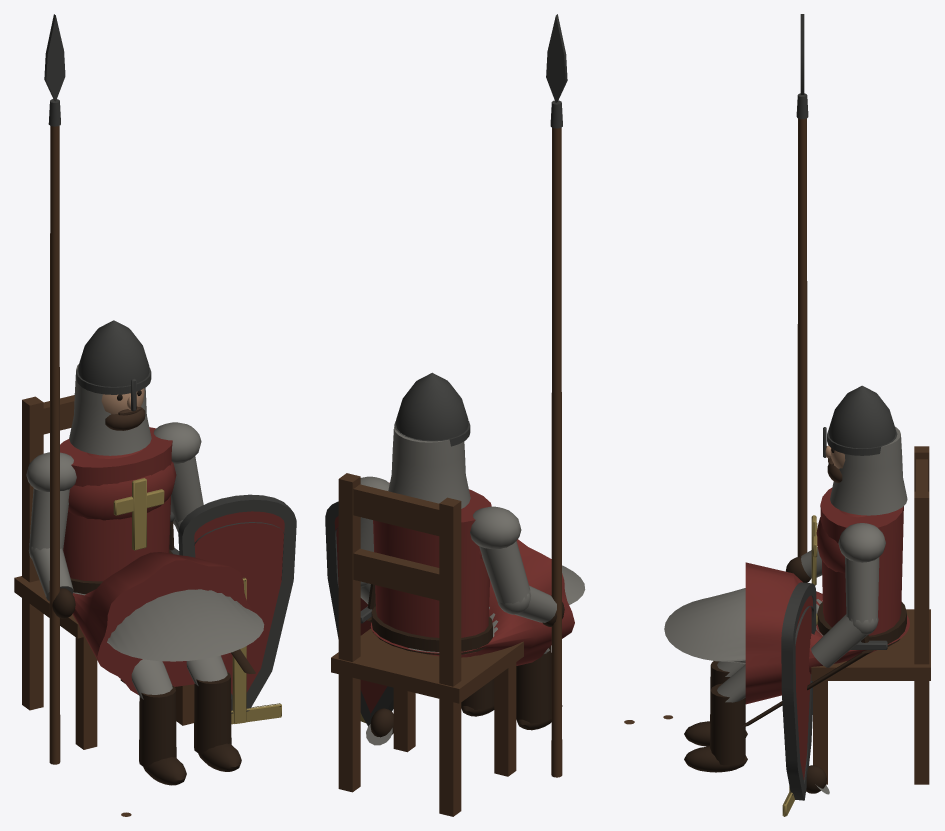
File: guardia-sentado.glb
3 renders of one model, left to right at view 1: azimuth 30°, elevation 25°; view 2: azimuth 150°, elevation 25°; view 3: azimuth 270°, elevation 25°, orthographic. The views are drawn at different scales.
Parts seen in each view (by area): view 1: GuardiaCuerpo, Silla, GuardiaCabeza; view 2: GuardiaCuerpo, Silla, GuardiaCabeza; view 3: GuardiaCuerpo, Silla, GuardiaCabeza.
Boxes of the visible parts, x1=… form: GuardiaCuerpo: x1=26, y1=14, x2=296, y2=816; Silla: x1=14, y1=395, x2=194, y2=749; GuardiaCabeza: x1=69, y1=320, x2=151, y2=455; GuardiaCuerpo: x1=325, y1=14, x2=634, y2=777; Silla: x1=331, y1=473, x2=523, y2=816; GuardiaCabeza: x1=388, y1=372, x2=470, y2=508; GuardiaCuerpo: x1=663, y1=14, x2=909, y2=816; Silla: x1=811, y1=446, x2=930, y2=784; GuardiaCabeza: x1=823, y1=385, x2=907, y2=515.
Bounding box in the file's own units: 0.8823 × 2.6 × 0.897.
